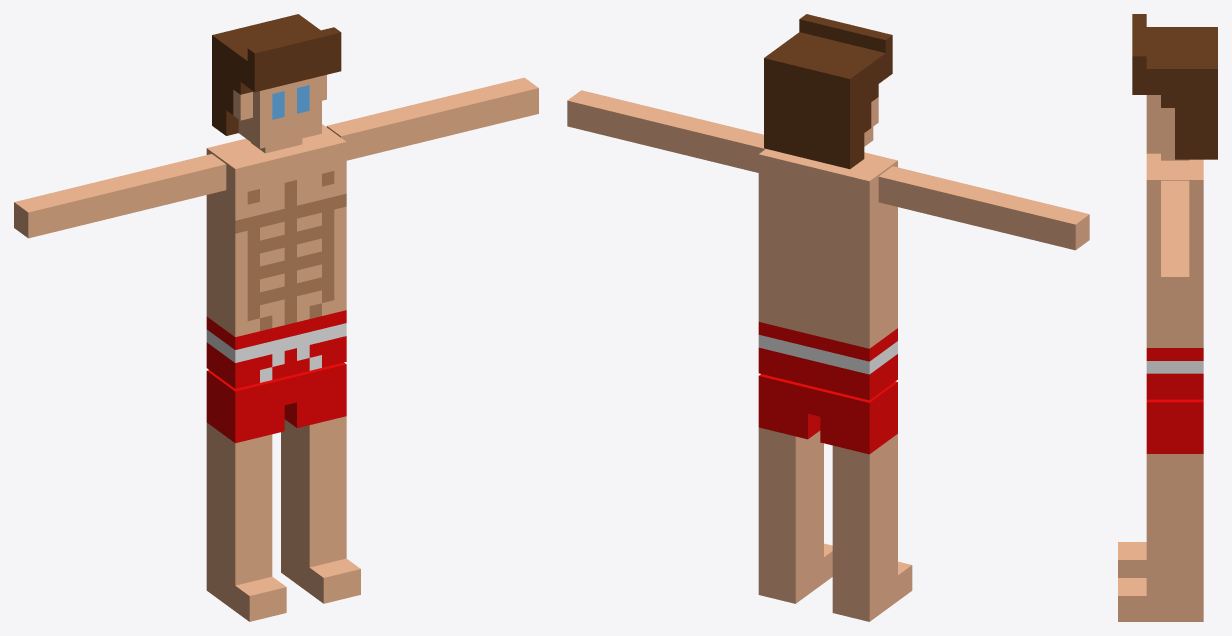
Rendered from boy.fbx.
3 renders of one model, left to right at view 1: azimuth 30°, elevation 25°; view 2: azimuth 150°, elevation 25°; view 3: azimuth 270°, elevation 25°, orthographic.
Visible parts, largest first — view 1: body, right_leg, left_leg, head, right_hand, left_hand; view 2: body, right_leg, head, left_leg, right_hand, left_hand; view 3: left_leg, head, body, left_hand, right_leg.
Part boxes in pixels (x1,y1,x2,y2): body: (206,124,346,388); right_leg: (206,370,290,621); left_leg: (281,362,360,603); head: (212,14,341,153); right_hand: (14,154,226,238); left_hand: (326,77,538,160); body: (758,149,897,400); right_leg: (814,381,912,621); head: (764,14,892,169); left_leg: (758,374,832,603); right_hand: (878,166,1089,250); left_hand: (567,90,765,172); left_leg: (1118,399,1203,621); head: (1132,14,1217,160); body: (1146,153,1203,399); left_hand: (1161,180,1189,302); right_leg: (1118,542,1146,577).
Size of the model in its own units: 4129 by 4330 by 700.
